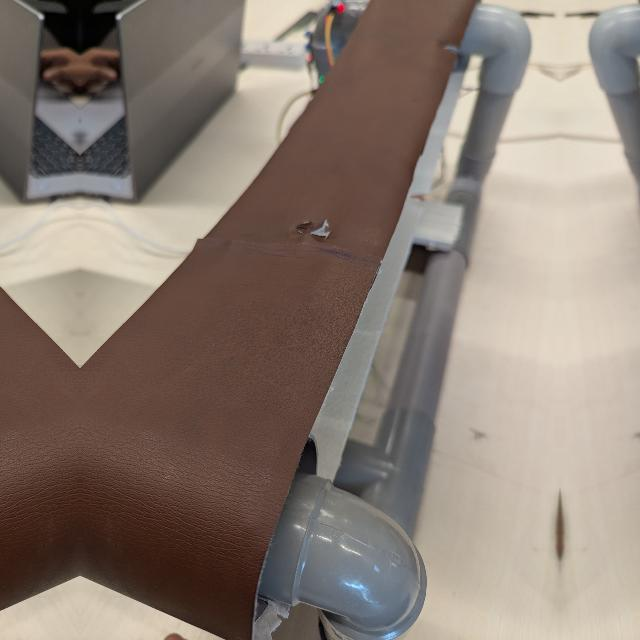joint_damage: (291, 201, 357, 259)
